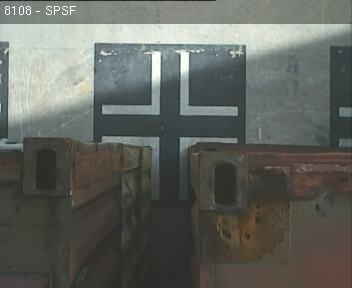groundmarker_1: (101, 52, 238, 116), (102, 136, 237, 200)
